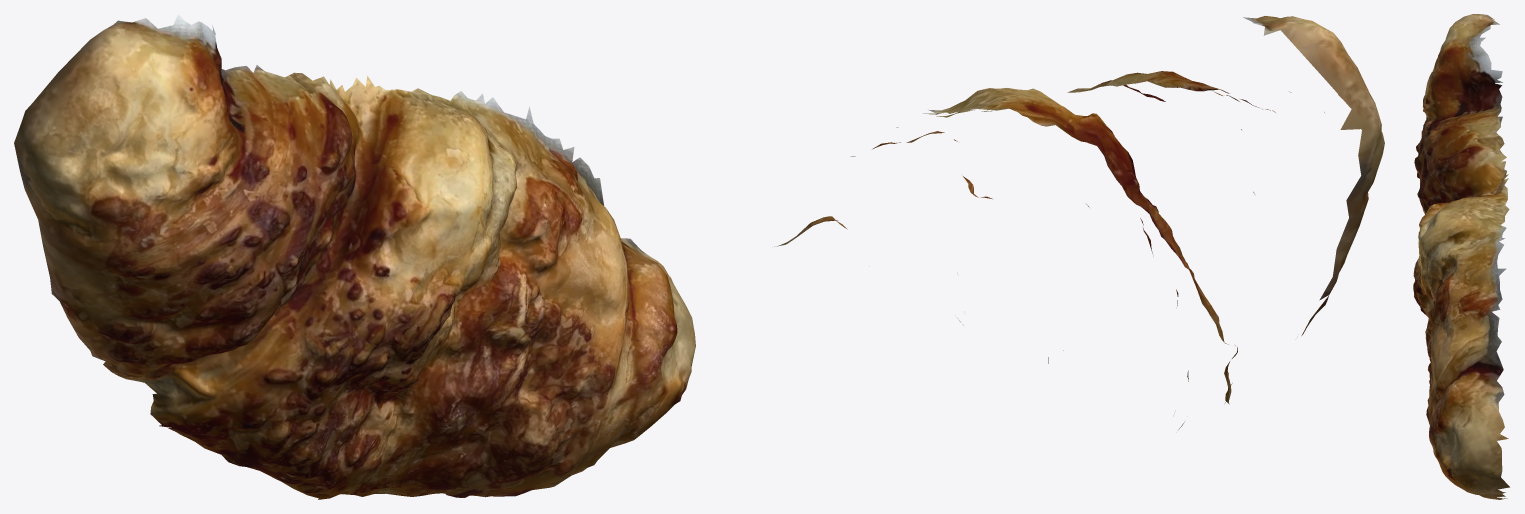
The model's file is croissant-transformed.glb.
3 views of the same model, side by side, from view 1: azimuth 30°, elevation 25°; view 2: azimuth 150°, elevation 25°; view 3: azimuth 270°, elevation 25° (orthographic). The views are drawn at different scales.
Visible parts, largest first — view 1: Croissant; view 2: Croissant; view 3: Croissant.
Part boxes in pixels (x1,y1,x2,y2): Croissant: (14,14,695,499); Croissant: (774,16,1384,428); Croissant: (1413,14,1509,499).
Size of the model in its own units: 0.0973 by 0.0793 by 0.0198.
Materials: 1 (1 with a texture image).
